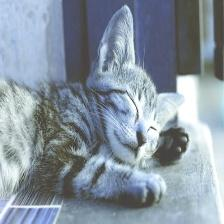kedo: (1, 6, 189, 206)
